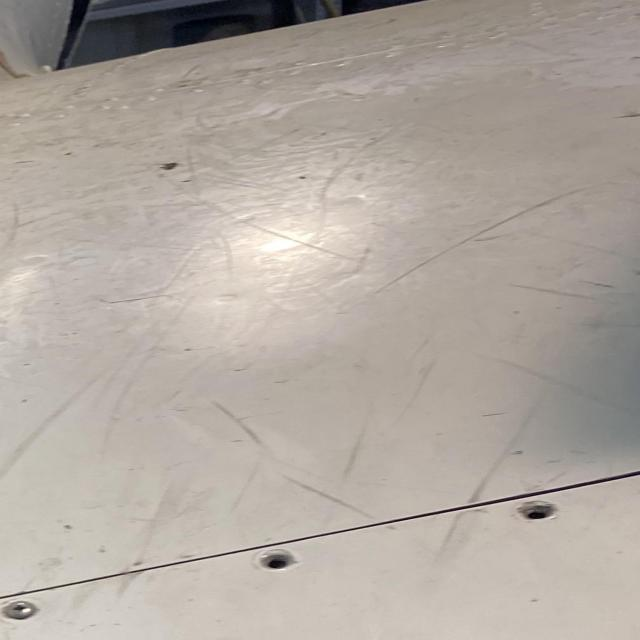Missing-head: (520, 499, 560, 520), (260, 548, 297, 570)
